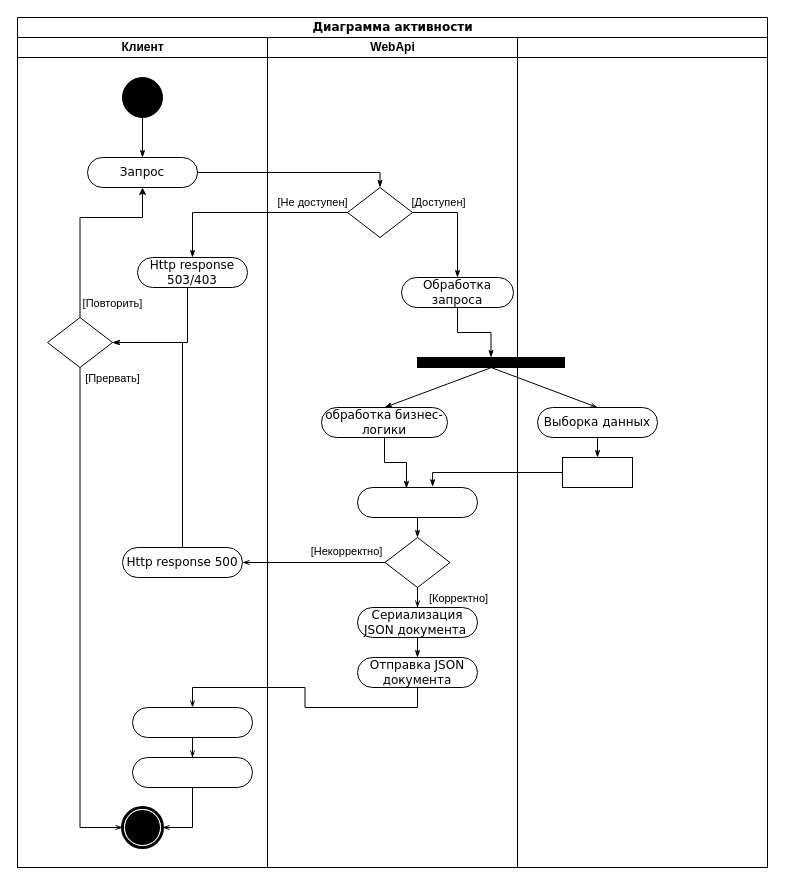
This 785x885 diagram has some shape labels left out. Each missing label, with the box of its shape:
Http response 200: (132, 756, 252, 788)
Выполнение запроса: (356, 486, 478, 518)
Данные: (562, 456, 632, 488)
Получение JSON документа: (132, 706, 252, 738)
Репозиторий: (516, 36, 768, 868)
